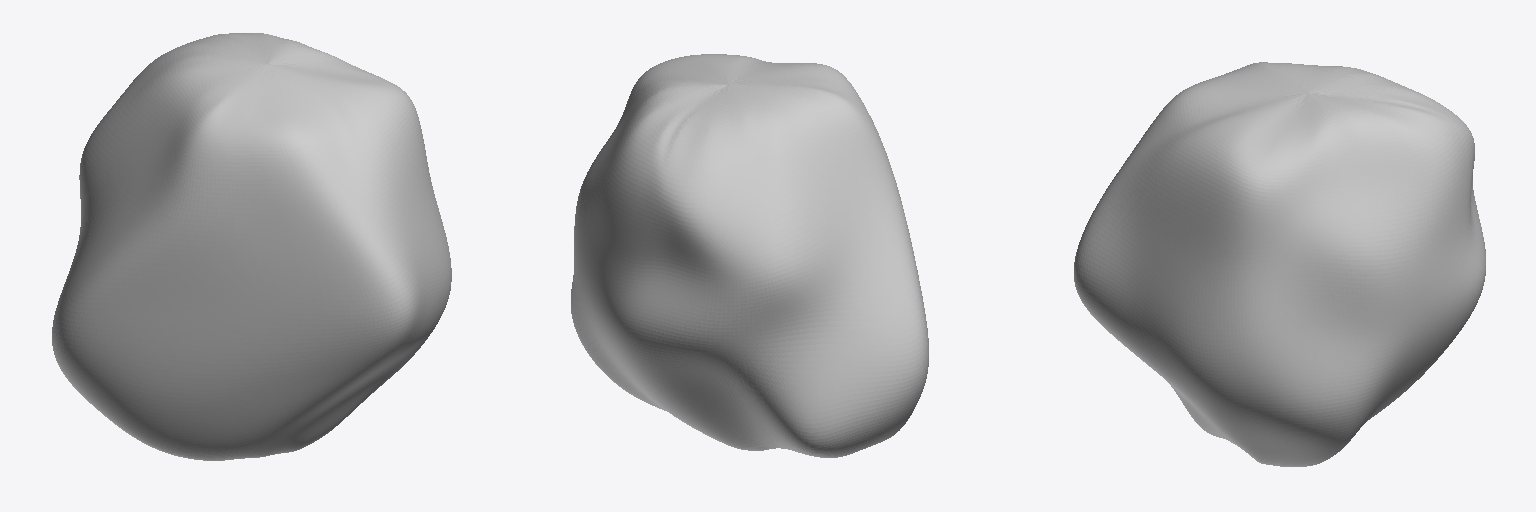
File: asteroid1.obj
The picture shows the model from 3 angles: view 1: azimuth 30°, elevation 25°; view 2: azimuth 150°, elevation 25°; view 3: azimuth 270°, elevation 25°; orthographic projection.
Parts seen in each view (by area): view 1: Sphere_Sphere.001; view 2: Sphere_Sphere.001; view 3: Sphere_Sphere.001.
Boxes of the visible parts, <box> form: Sphere_Sphere.001: <box>52,33,451,460</box>; Sphere_Sphere.001: <box>571,54,928,457</box>; Sphere_Sphere.001: <box>1074,62,1485,466</box>.
Bounding box in the file's own units: 2.31 × 2.23 × 2.37.